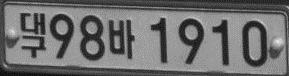0: (241, 19, 268, 67)
1: (209, 18, 238, 66), (146, 17, 175, 63)
8: (78, 13, 105, 61)
9: (177, 17, 204, 65), (48, 13, 74, 59)
대구_V: (19, 12, 46, 58)
바: (107, 18, 135, 59)
